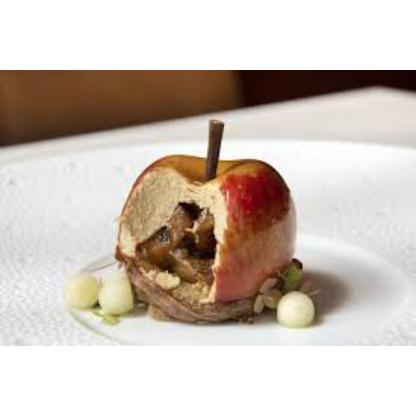damaged_apple: (114, 149, 304, 315)
